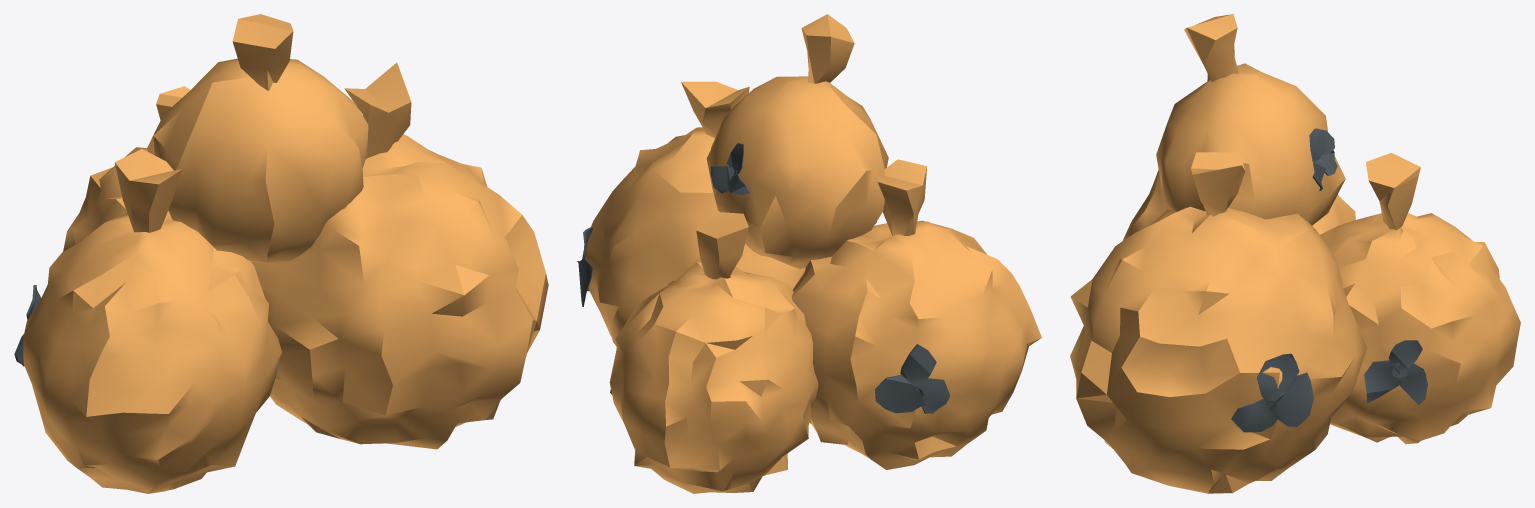
The model's file is waste_bags.fbx.
The picture shows the model from 3 angles, left to right: view 1: azimuth 30°, elevation 25°; view 2: azimuth 150°, elevation 25°; view 3: azimuth 270°, elevation 25°; orthographic projection. The views are drawn at different scales.
Visible parts, largest first — view 1: waste_bags; view 2: waste_bags; view 3: waste_bags.
Boxes of the visible parts, <box> form: waste_bags: <box>14,14,548,493</box>; waste_bags: <box>577,14,1041,493</box>; waste_bags: <box>1070,14,1520,493</box>.
Size of the model in its own units: 96.4 by 89.37 by 88.44.
